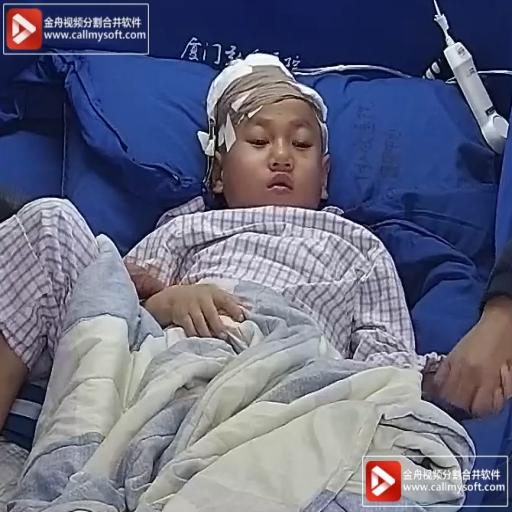Netural: (197, 44, 349, 217)
